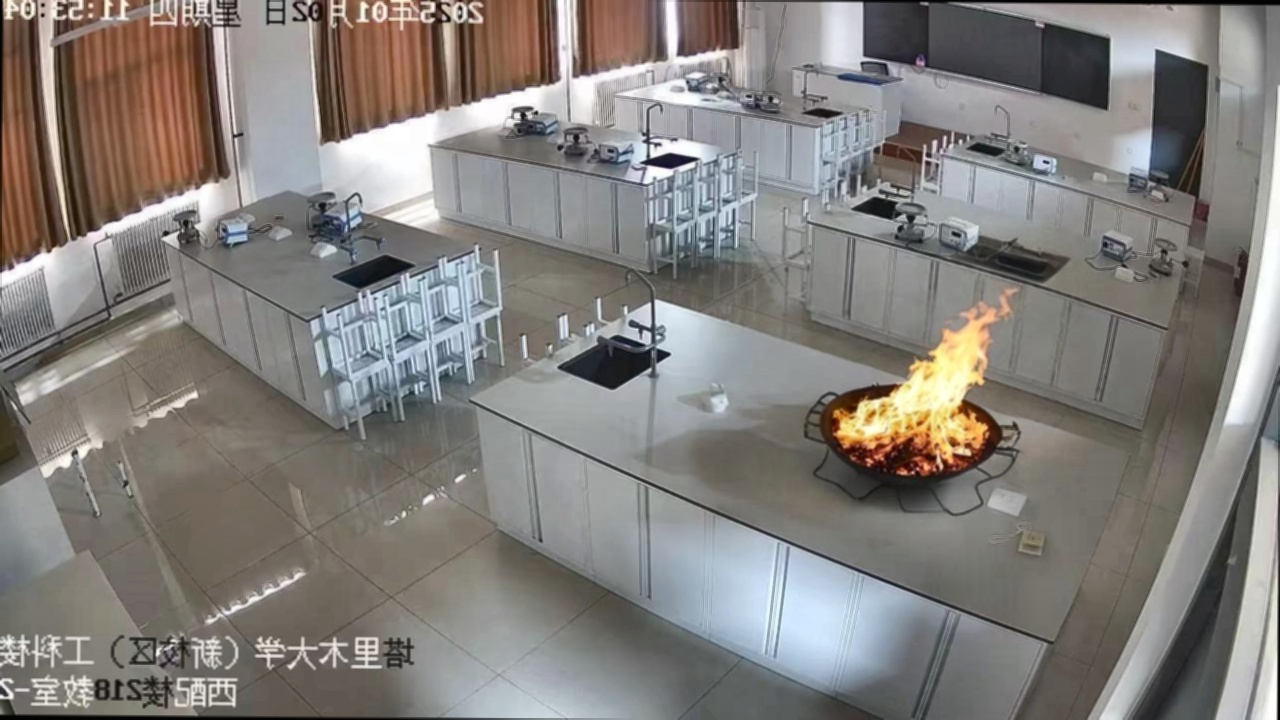fire: (801, 262, 1037, 511)
